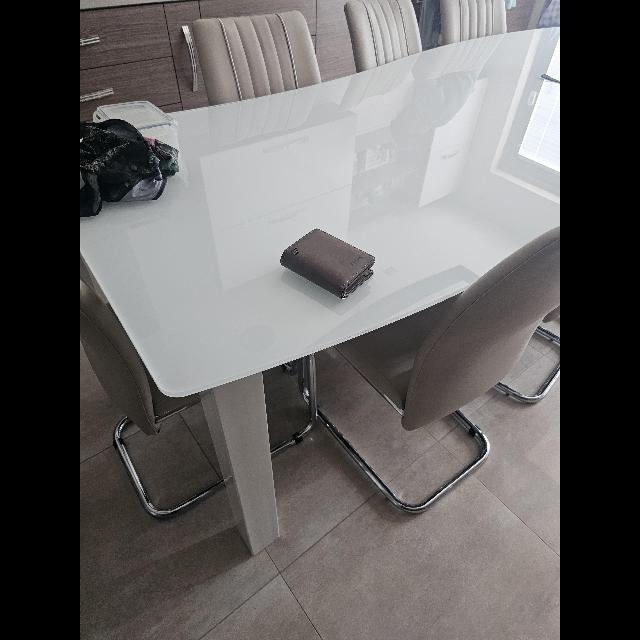Wallet: (279, 228, 375, 300)
